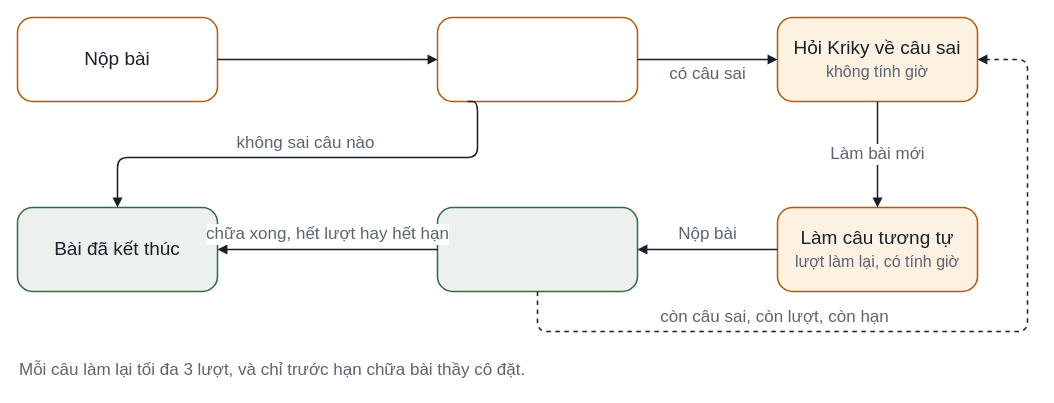
Image size: 1054x403. Some labels were removed from this diagram. The centre of each missing label's shape, as x and y in pixels:
Kết quả sau chữa: (537,249)
Xem kết quả: (537,59)
